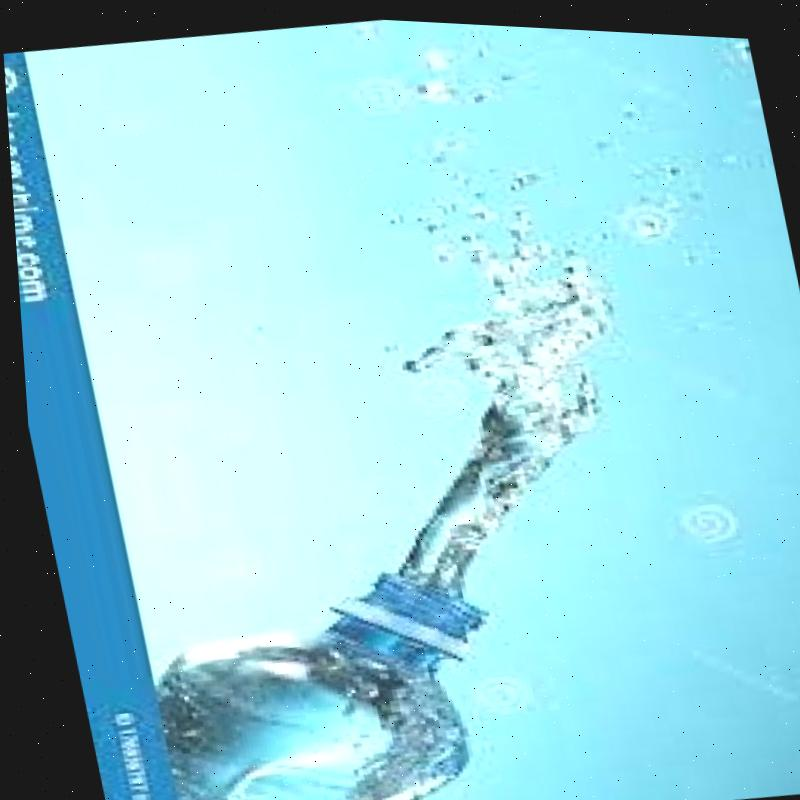botella: (126, 544, 522, 800)
